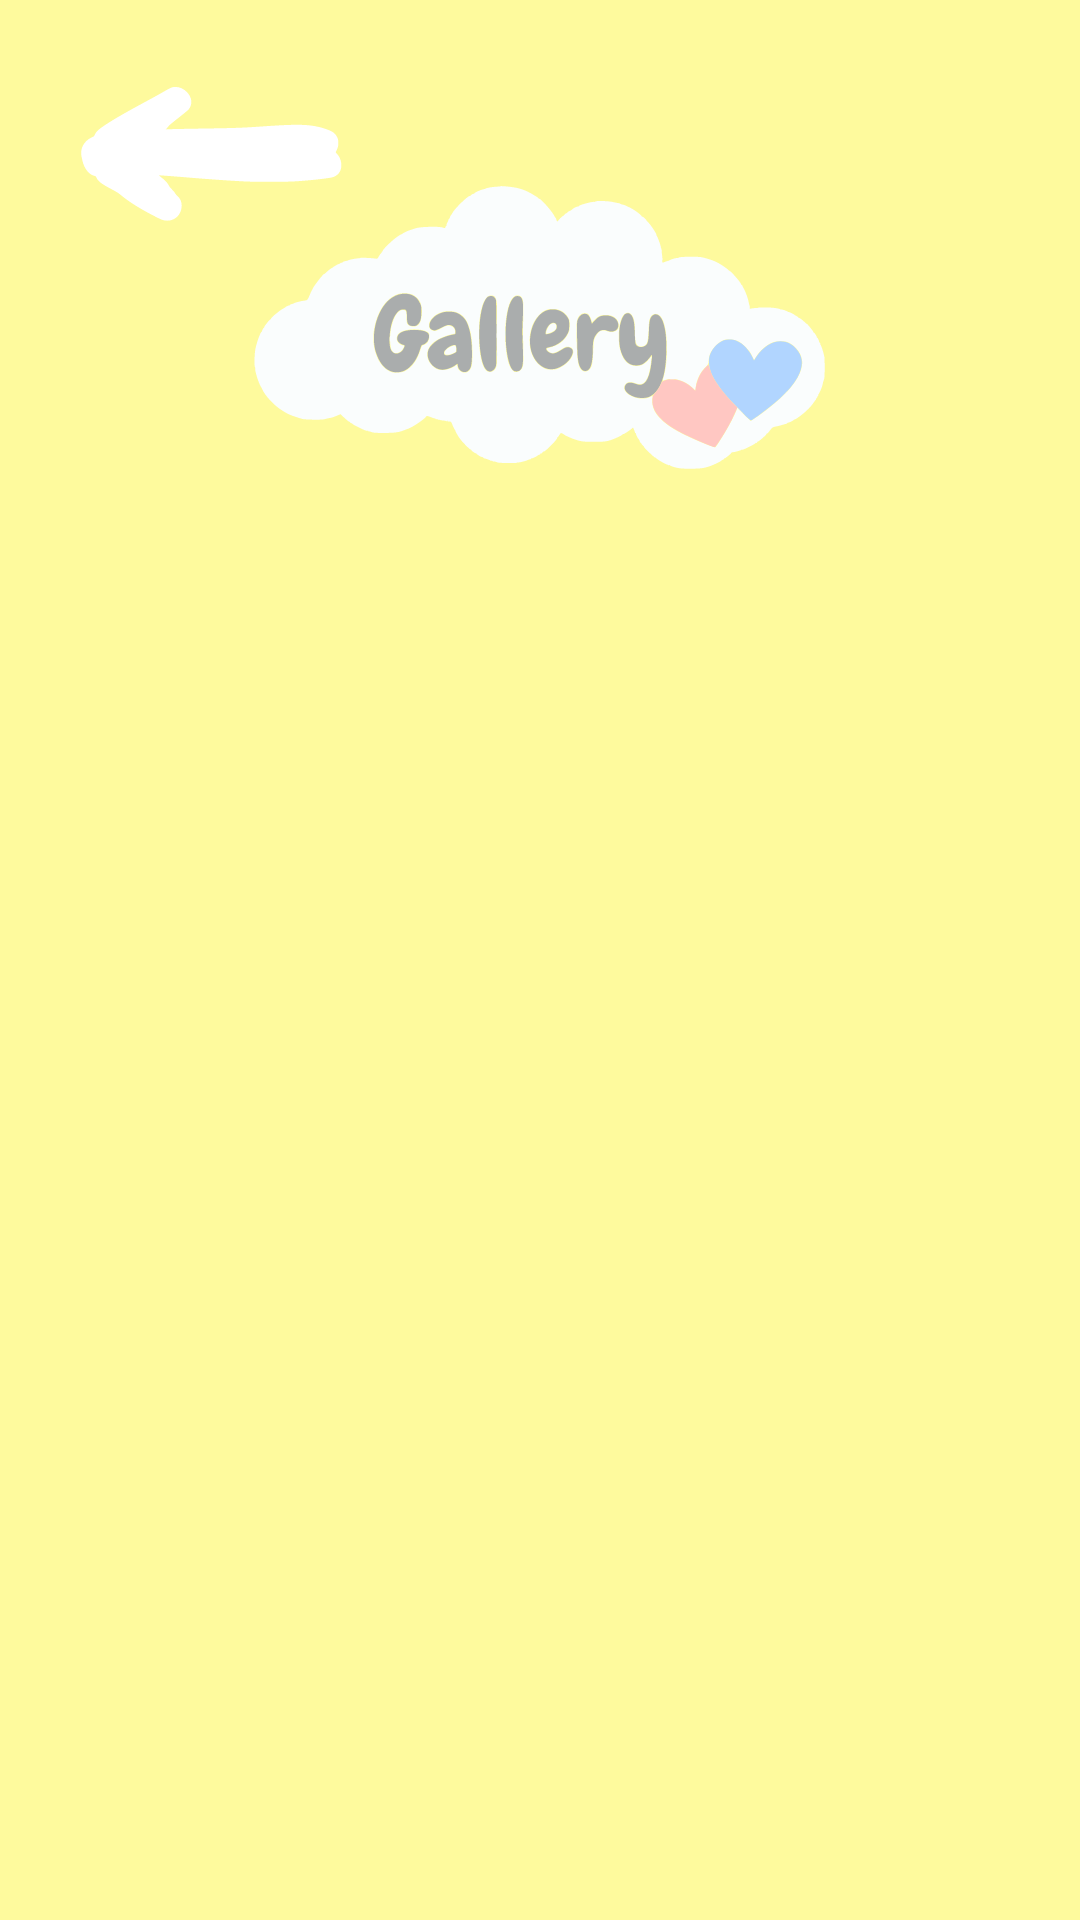

Point at icon controls on the screen. Image size 1080×1920, points as [x,y].
backarrow: [211,154]
